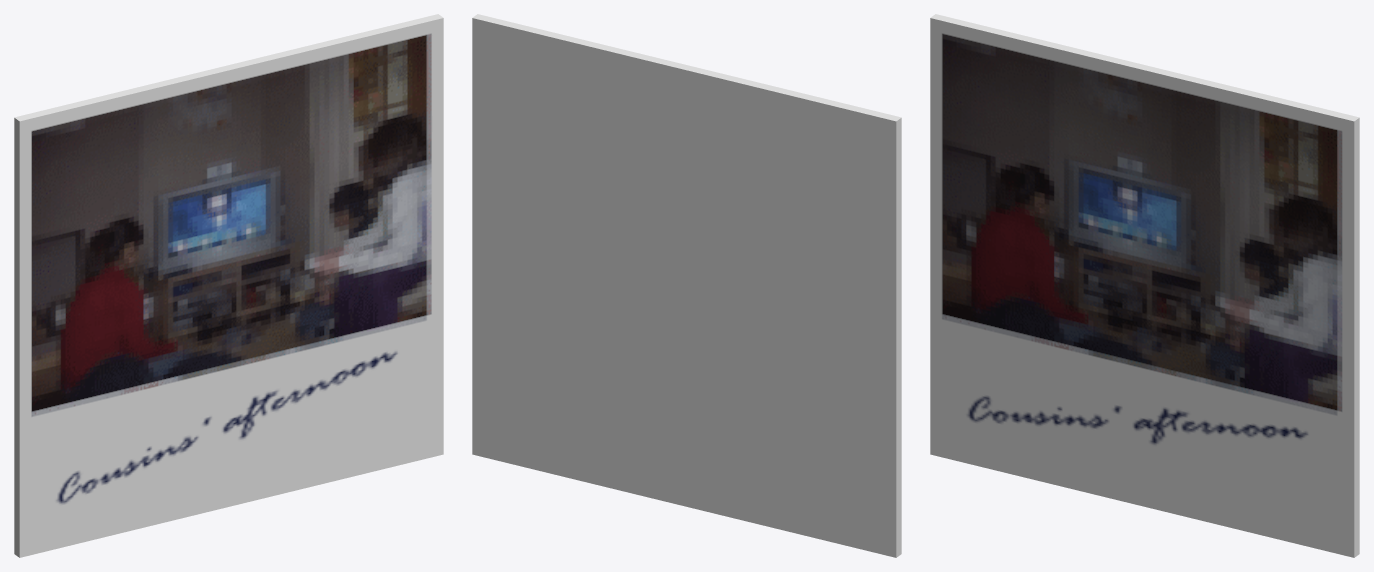
File: cousinsPhoto.fbx
3 renders of one model, left to right at view 1: azimuth 30°, elevation 25°; view 2: azimuth 150°, elevation 25°; view 3: azimuth 330°, elevation 25°, orthographic.
Visible parts, largest first — view 1: Cube; view 2: Cube; view 3: Cube.
Part boxes in pixels (x1,y1,x2,y2): Cube: (14,14,443,557); Cube: (472,14,901,557); Cube: (930,14,1359,557).
Size of the model in its own units: 36.05 by 35.46 by 0.8.
